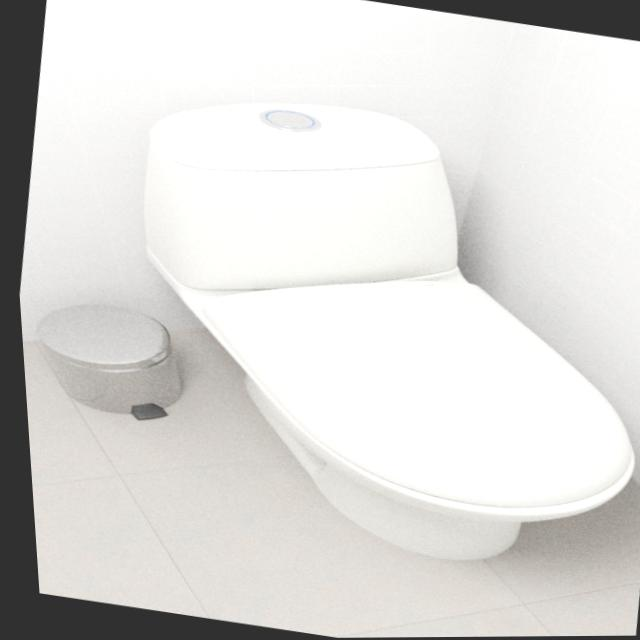toilet: (84, 74, 640, 591)
